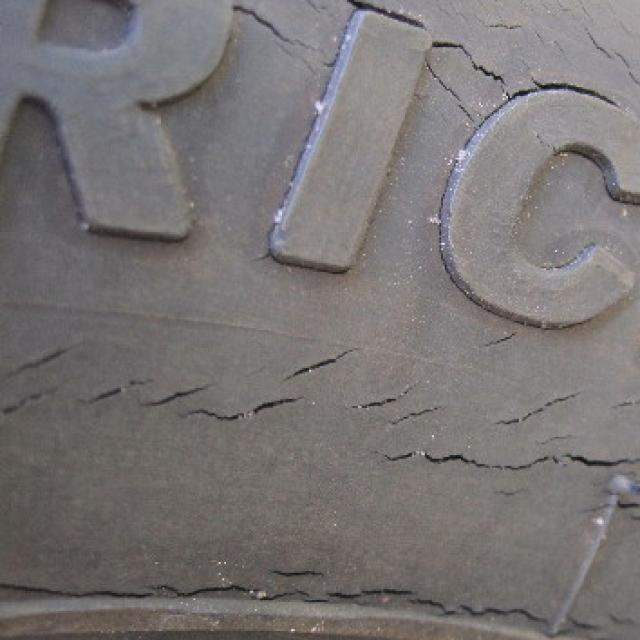Cracks: (0, 306, 637, 640), (234, 0, 638, 191)
